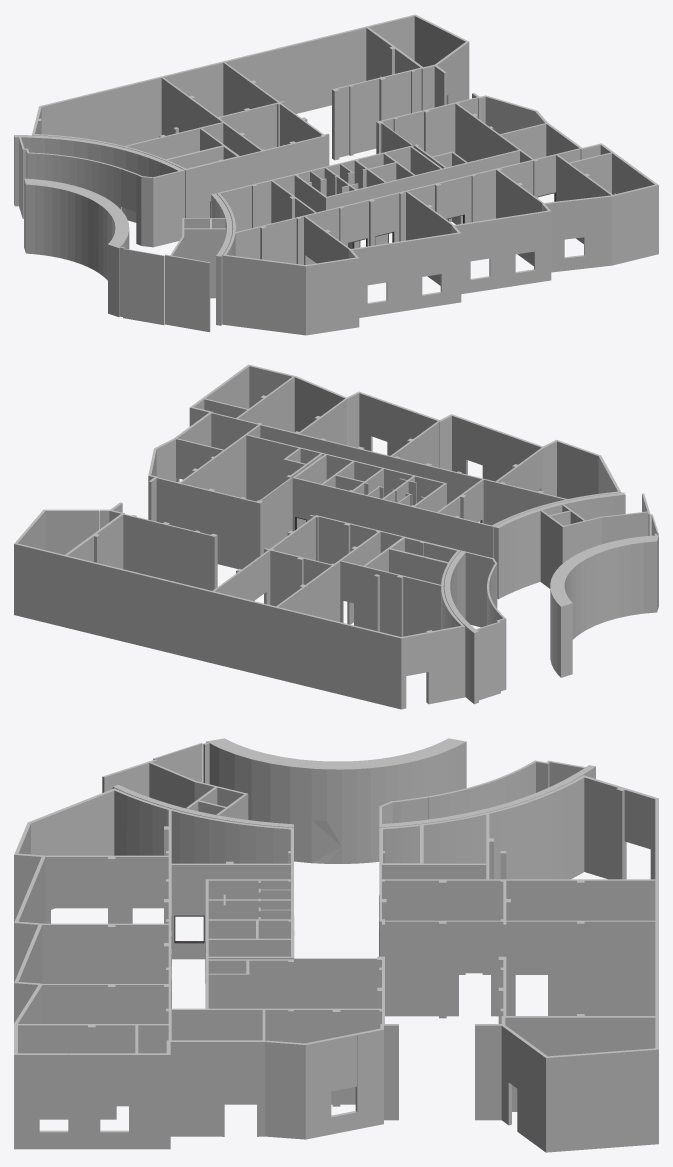
The model's file is planta6.dae.
3 renders of one model, top to bottom at view 1: azimuth 30°, elevation 25°; view 2: azimuth 150°, elevation 25°; view 3: azimuth 270°, elevation 25°, orthographic. The views are drawn at different scales.
Parts seen in each view (by area): view 1: walls; view 2: walls; view 3: walls.
Part boxes in pixels (bbox=[...]): walls: bbox=[14, 14, 658, 335]; walls: bbox=[14, 364, 658, 709]; walls: bbox=[14, 738, 658, 1152].
Size of the model in its own units: 39.89 by 34 by 5.5.
